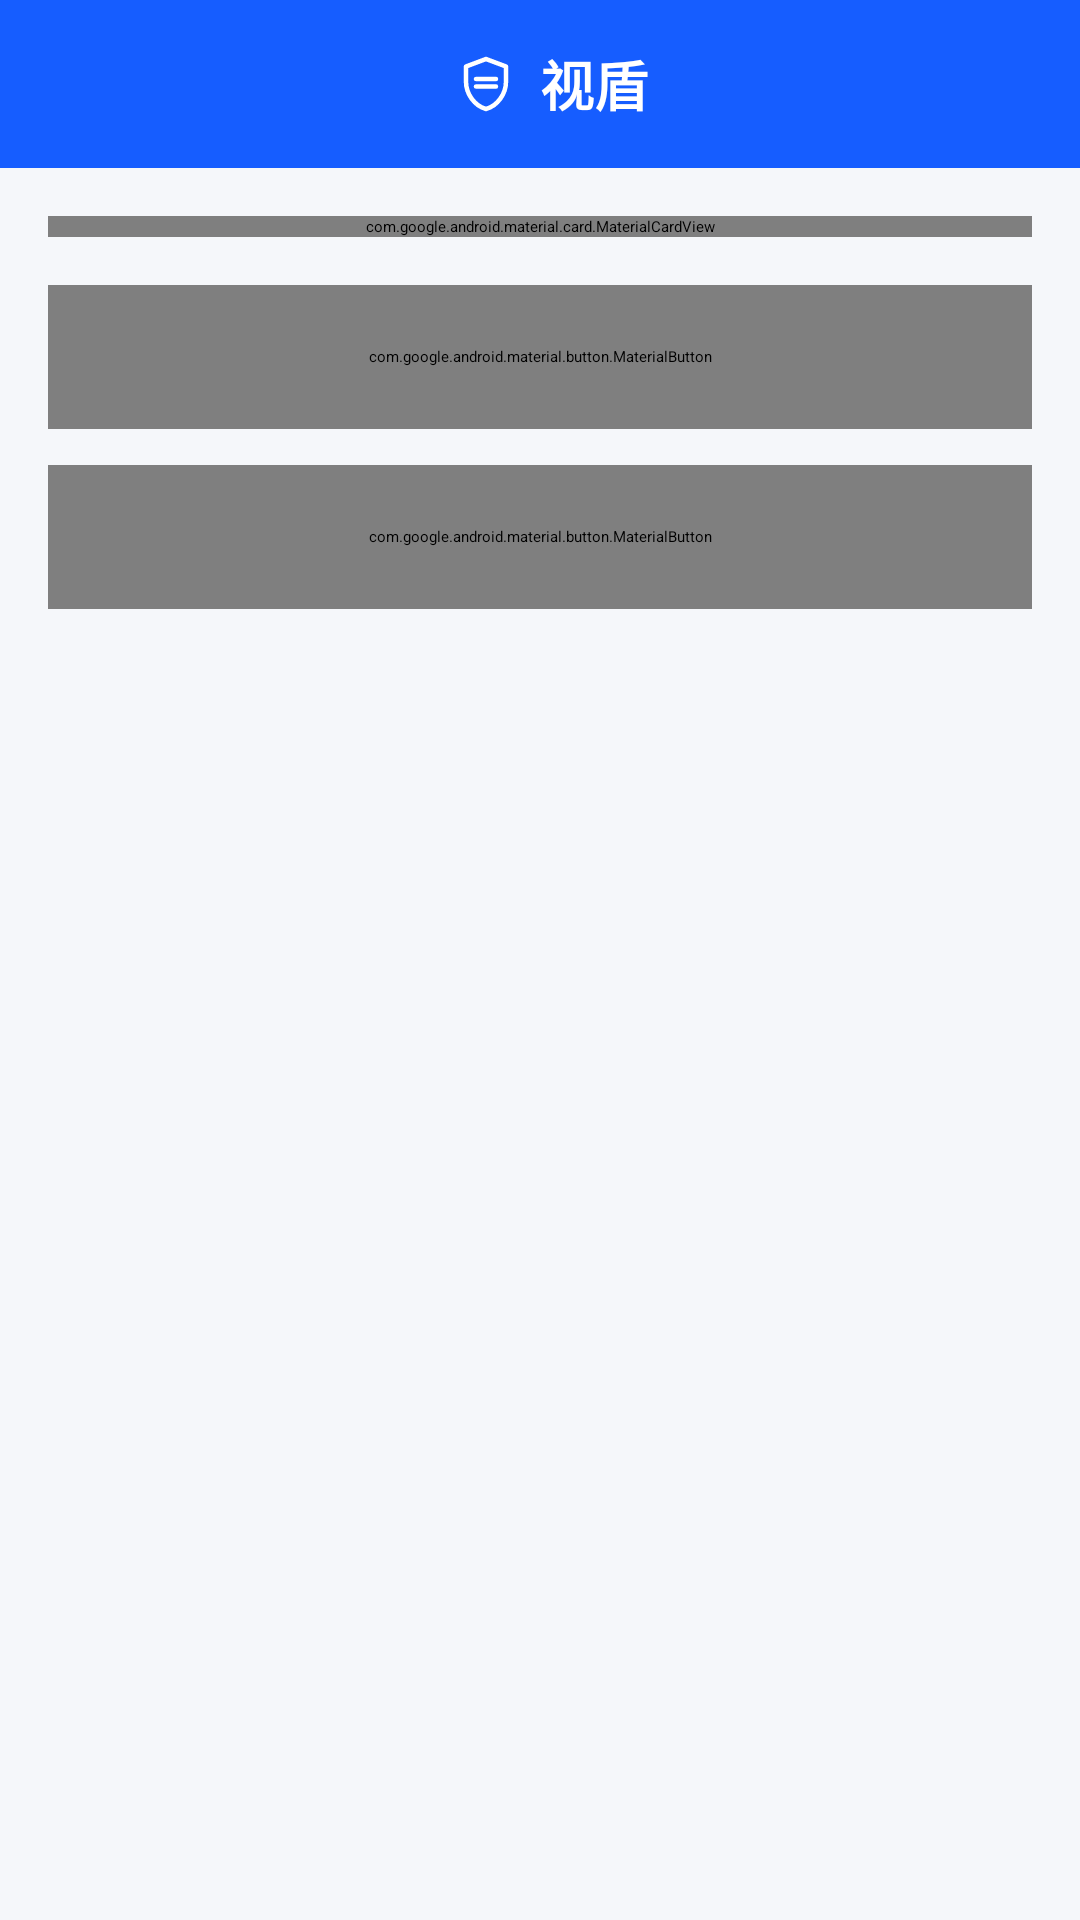

Icons on this 1080x1920 Android screen, each with the point to tap as (x,y):
shield scan: (486,84)
